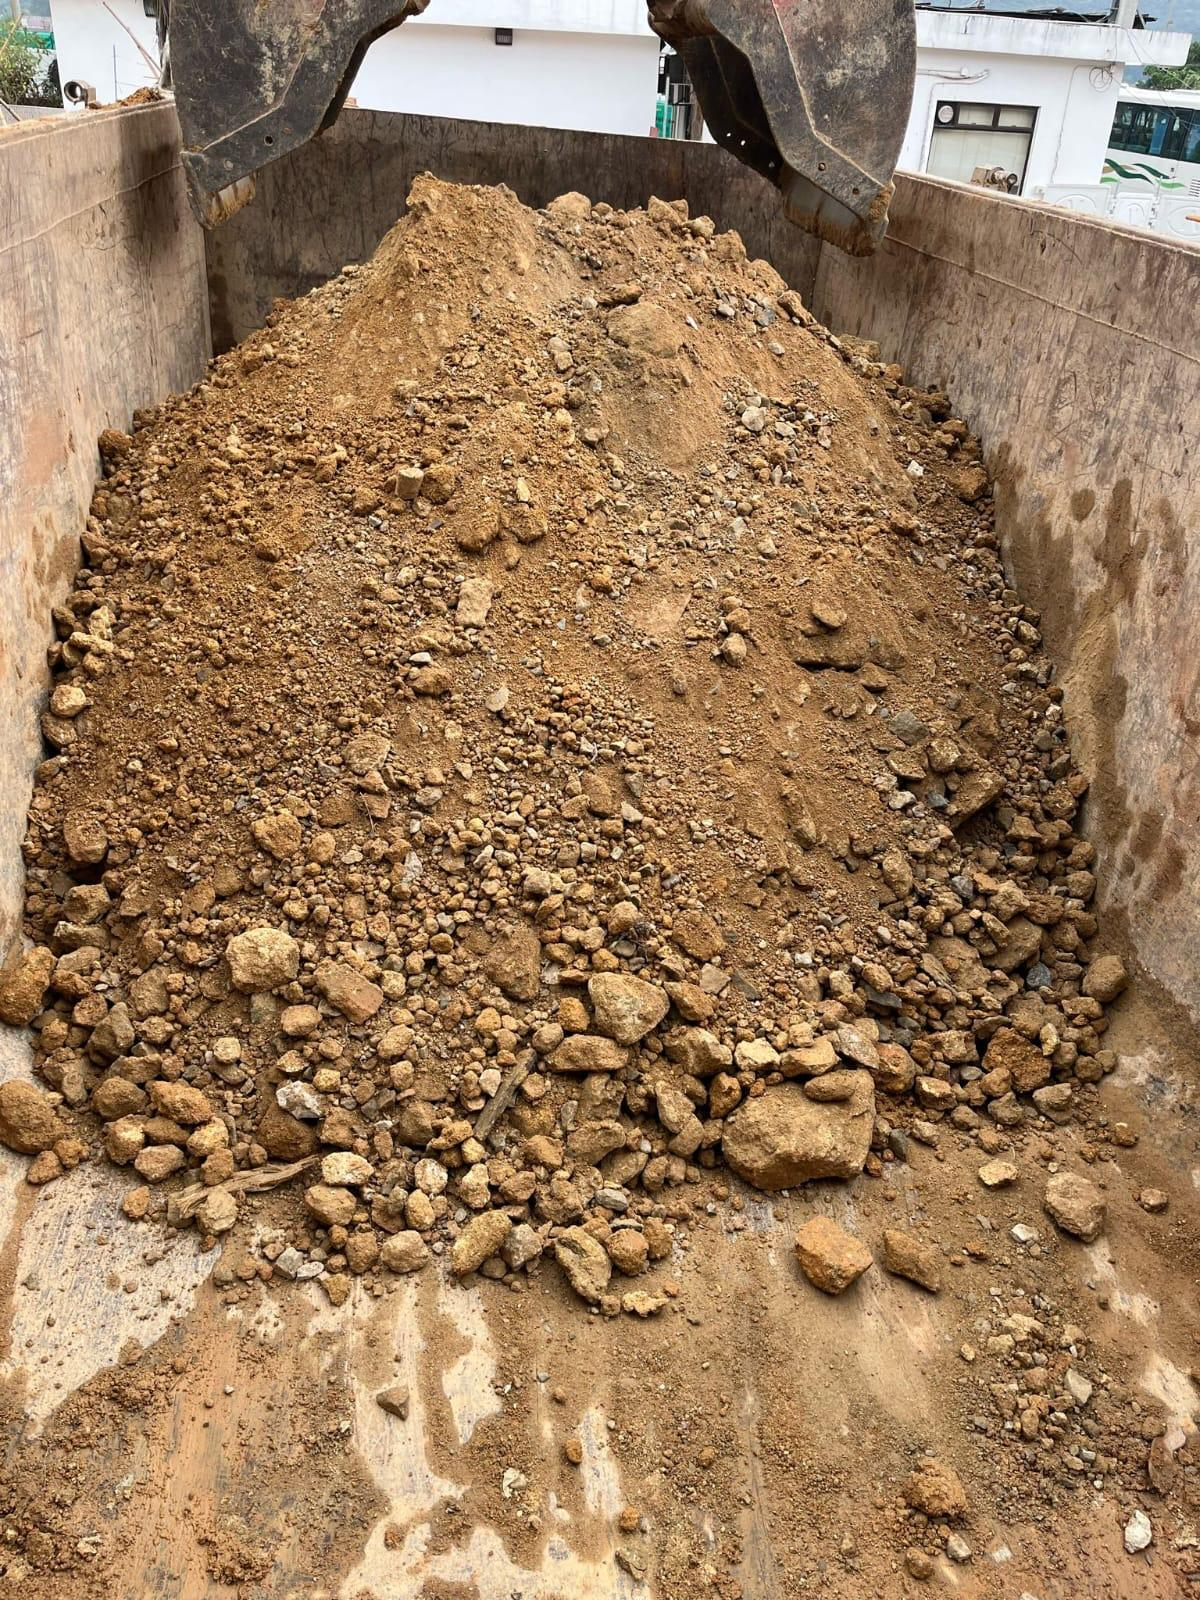dry: (25, 182, 1100, 1255)
